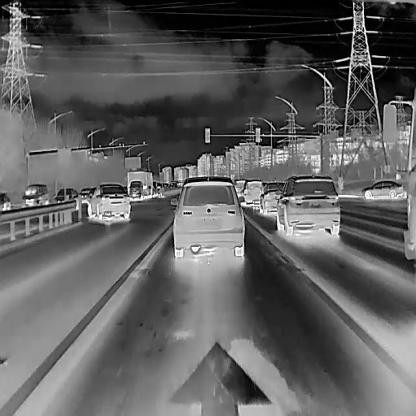car: (170, 176, 245, 257), (275, 175, 339, 234), (86, 182, 129, 223), (360, 179, 403, 199), (259, 180, 284, 212), (20, 182, 50, 208), (239, 178, 263, 207), (52, 187, 76, 204), (76, 184, 96, 202), (0, 188, 10, 215)
truck: (126, 170, 153, 201)
